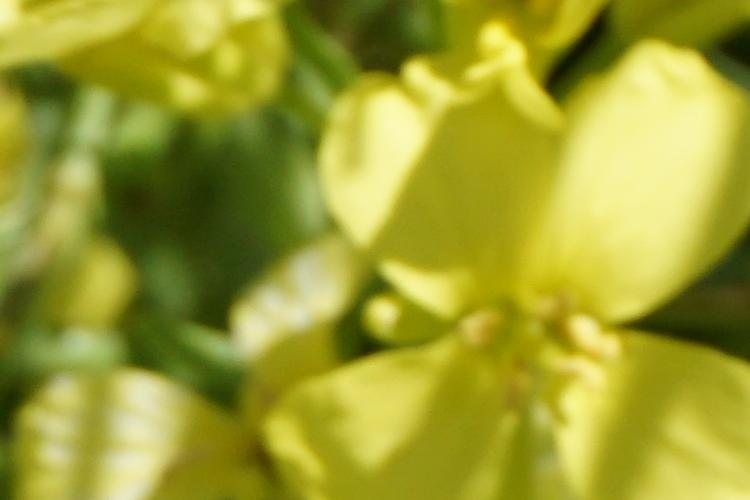yellow: (350, 64, 750, 493)
